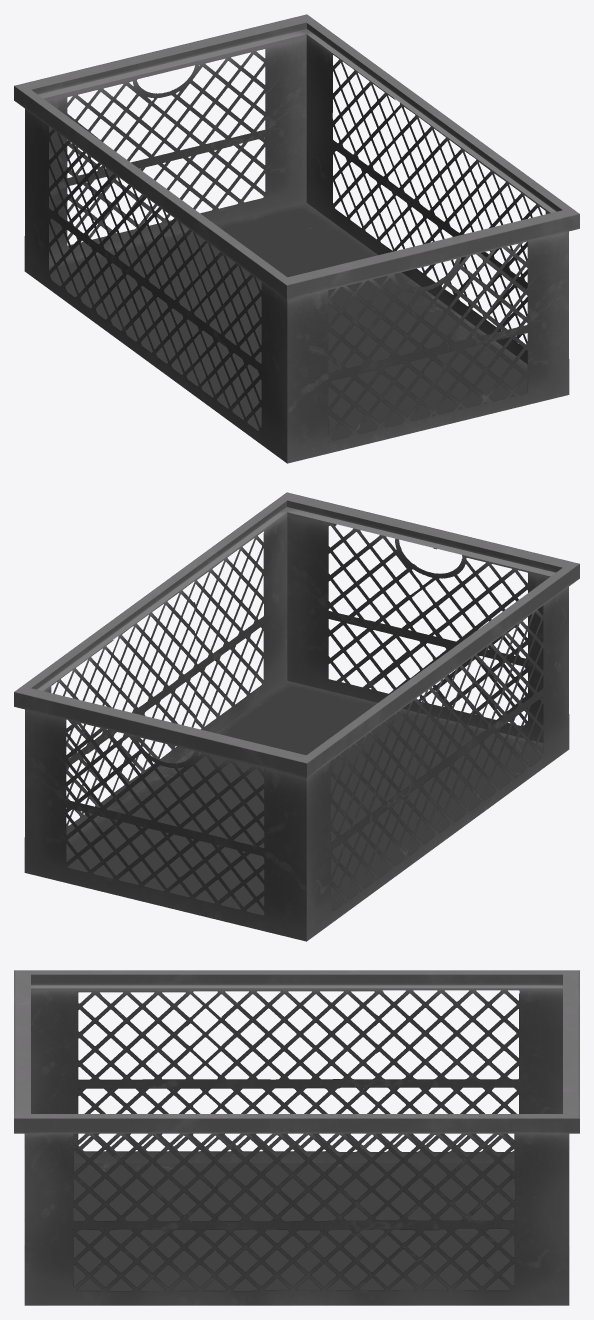
Rendered from caja vacia.fbx.
3 renders of one model, top to bottom at view 1: azimuth 30°, elevation 25°; view 2: azimuth 150°, elevation 25°; view 3: azimuth 270°, elevation 25°, orthographic. The views are drawn at different scales.
Parts seen in each view (by area): view 1: caja vacia; view 2: caja vacia; view 3: caja vacia.
Part boxes in pixels (box(x1,y1,x2,y2)): caja vacia: box(14, 14, 579, 463); caja vacia: box(14, 492, 579, 941); caja vacia: box(14, 970, 579, 1305).
Size of the model in its own units: 46.9 by 28.02 by 75.64.
1 material, 1 textured.
